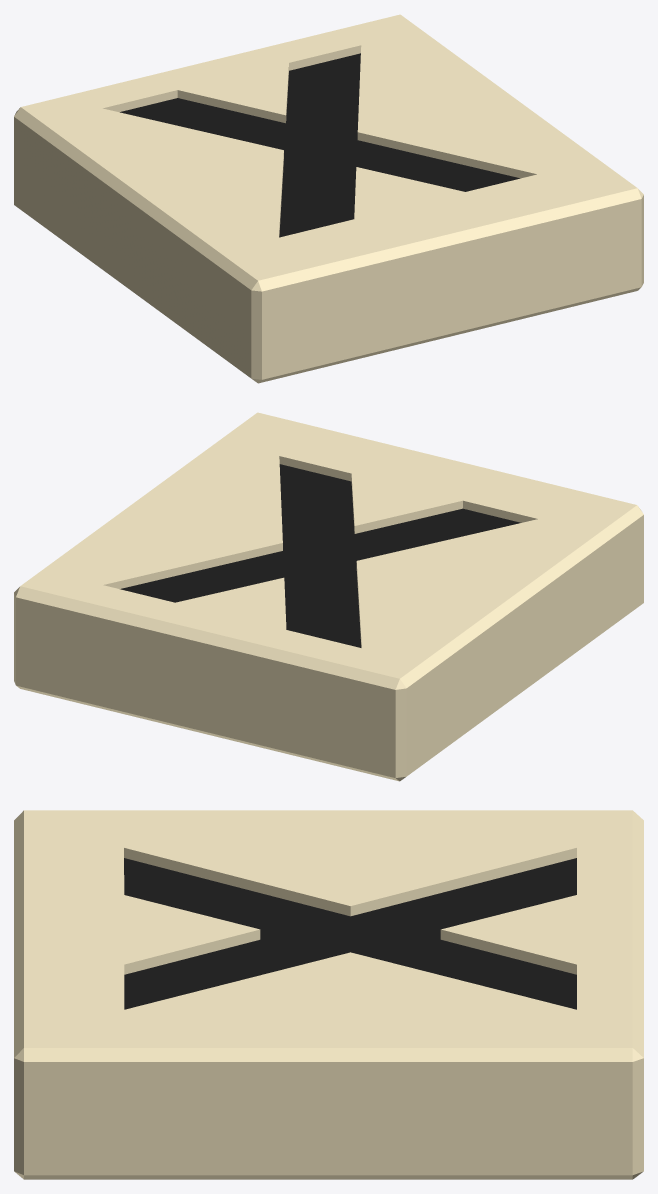
File: Game_Anagram_Tile_X_01.fbx
The picture shows the model from 3 angles, top to bottom: view 1: azimuth 30°, elevation 25°; view 2: azimuth 150°, elevation 25°; view 3: azimuth 270°, elevation 25°; orthographic projection. The views are drawn at different scales.
Visible parts, largest first — view 1: Game_Anagram_Tile_X_01; view 2: Game_Anagram_Tile_X_01; view 3: Game_Anagram_Tile_X_01.
Part boxes in pixels (box(x1,y1,x2,y2)): Game_Anagram_Tile_X_01: box(14, 14, 643, 383); Game_Anagram_Tile_X_01: box(14, 412, 643, 781); Game_Anagram_Tile_X_01: box(14, 810, 643, 1179).
Size of the model in its own units: 16.4 by 4.1 by 17.77.
